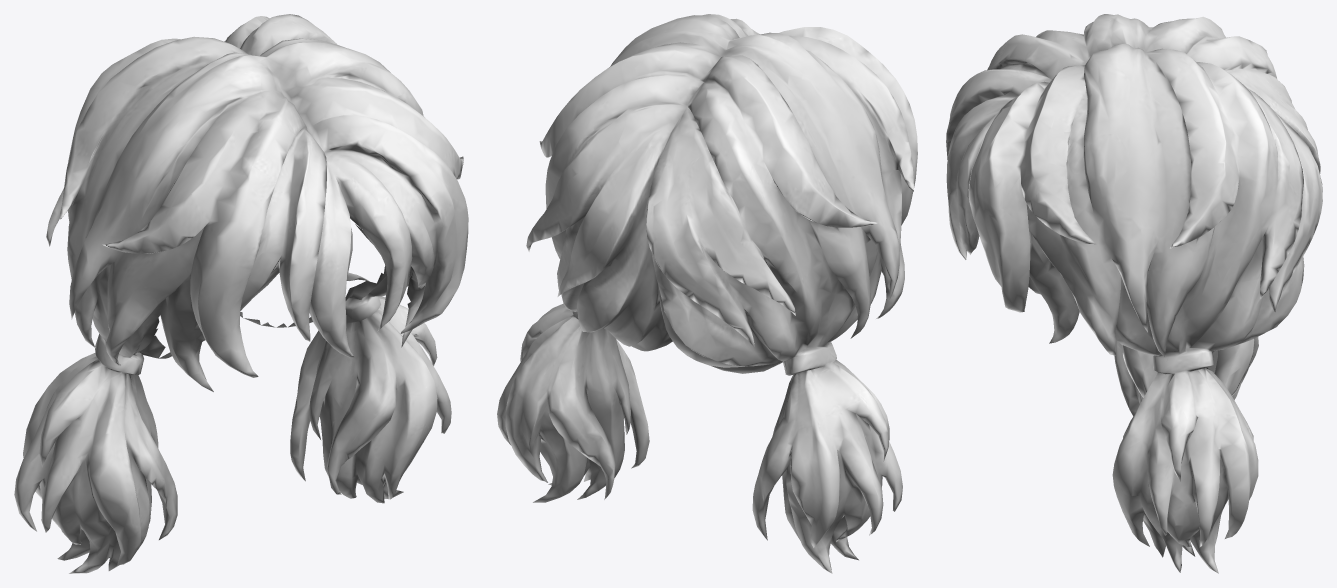
File: hair-pigtails.glb
3 renders of one model, left to right at view 1: azimuth 30°, elevation 25°; view 2: azimuth 150°, elevation 25°; view 3: azimuth 270°, elevation 25°, orthographic. The views are drawn at different scales.
Visible parts, largest first — view 1: tripo_node_b49a30e3-3836-4e83-aad8-cf2a0ac7a89f; view 2: tripo_node_b49a30e3-3836-4e83-aad8-cf2a0ac7a89f; view 3: tripo_node_b49a30e3-3836-4e83-aad8-cf2a0ac7a89f.
Part boxes in pixels (x1,y1,x2,y2): tripo_node_b49a30e3-3836-4e83-aad8-cf2a0ac7a89f: [14, 14, 468, 573]; tripo_node_b49a30e3-3836-4e83-aad8-cf2a0ac7a89f: [497, 14, 917, 573]; tripo_node_b49a30e3-3836-4e83-aad8-cf2a0ac7a89f: [946, 14, 1322, 573].
Bounding box in the file's own units: 0.2949 × 0.35 × 0.2559.
1 material, 1 textured.
